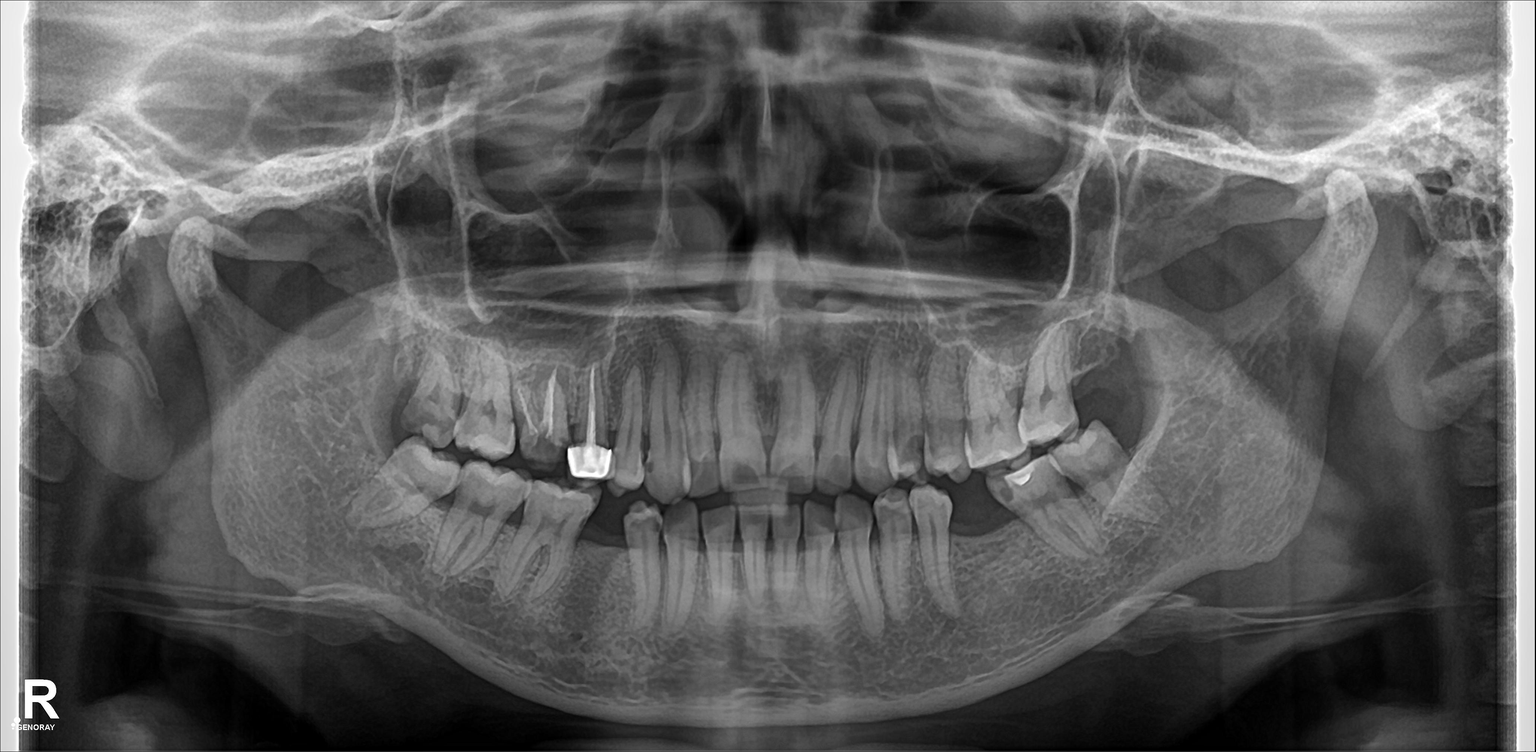Dental Caries: (886, 428, 927, 472), (406, 400, 451, 436)
Endodontically Treated Tooth: (514, 365, 566, 454), (570, 374, 614, 477)
Missing Tooth: (950, 488, 1007, 581), (1071, 324, 1129, 414), (587, 493, 621, 597)
